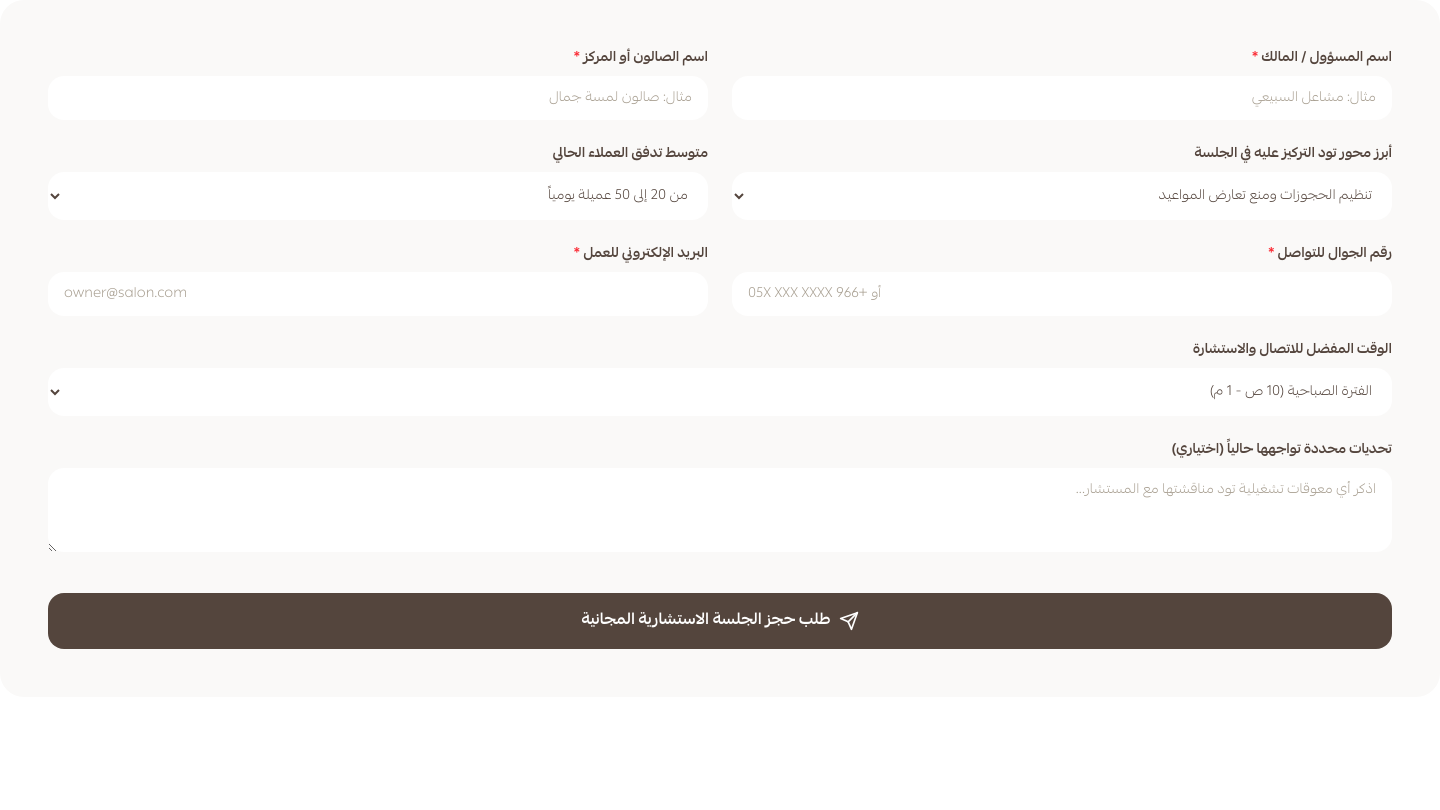
RASHX Public Pages & Conversion Forms Suite › Consultation Form (/consultation) › handles unsupported consultation gracefully showing official phone
Type "مشاعل السبيعي" into the field labelled "اسم المسؤول / المالك *" at (1062, 98), box [732,76,1392,120]
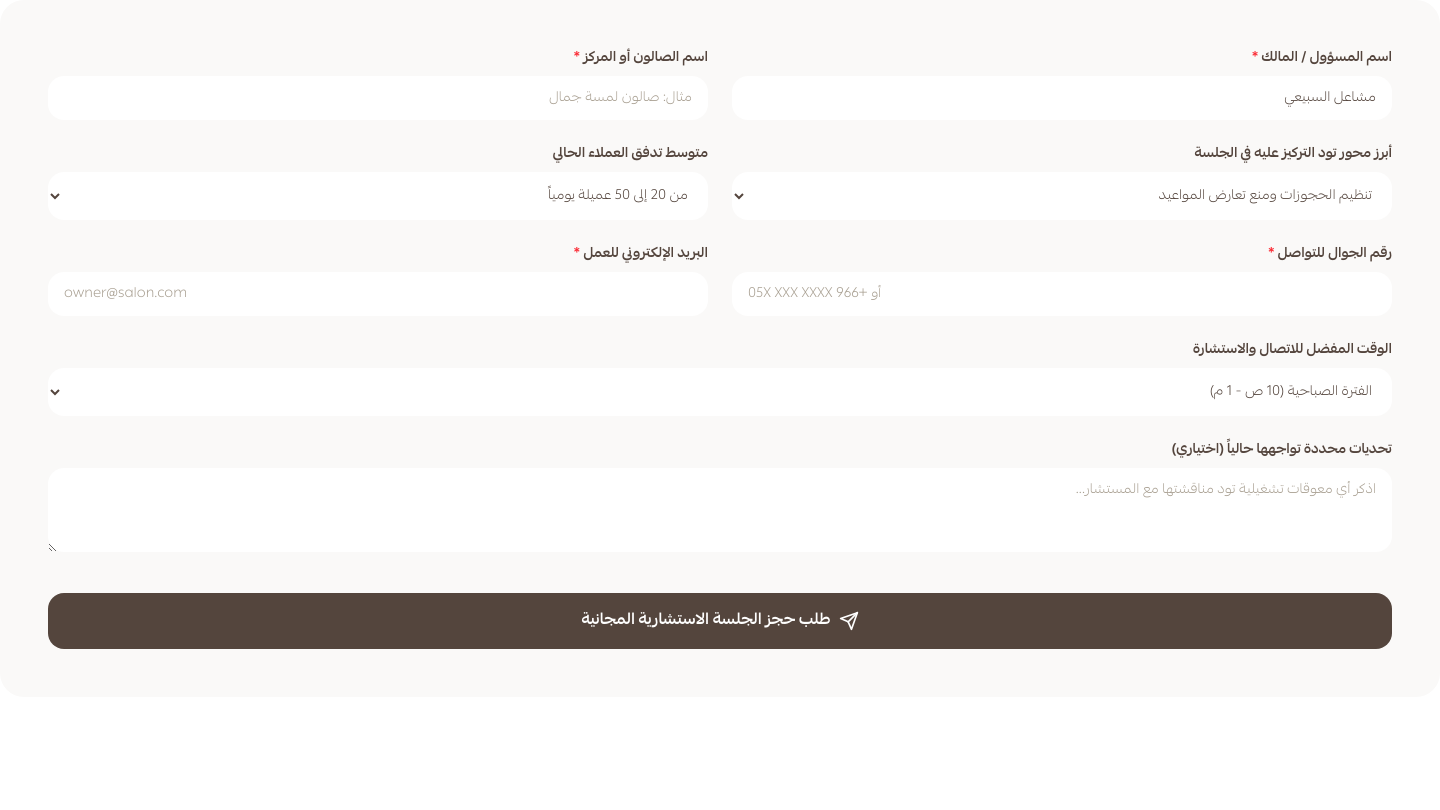
Type "صالون الأناقة" into the field labelled "اسم الصالون أو المركز *" at (378, 98), box [48,76,708,120]
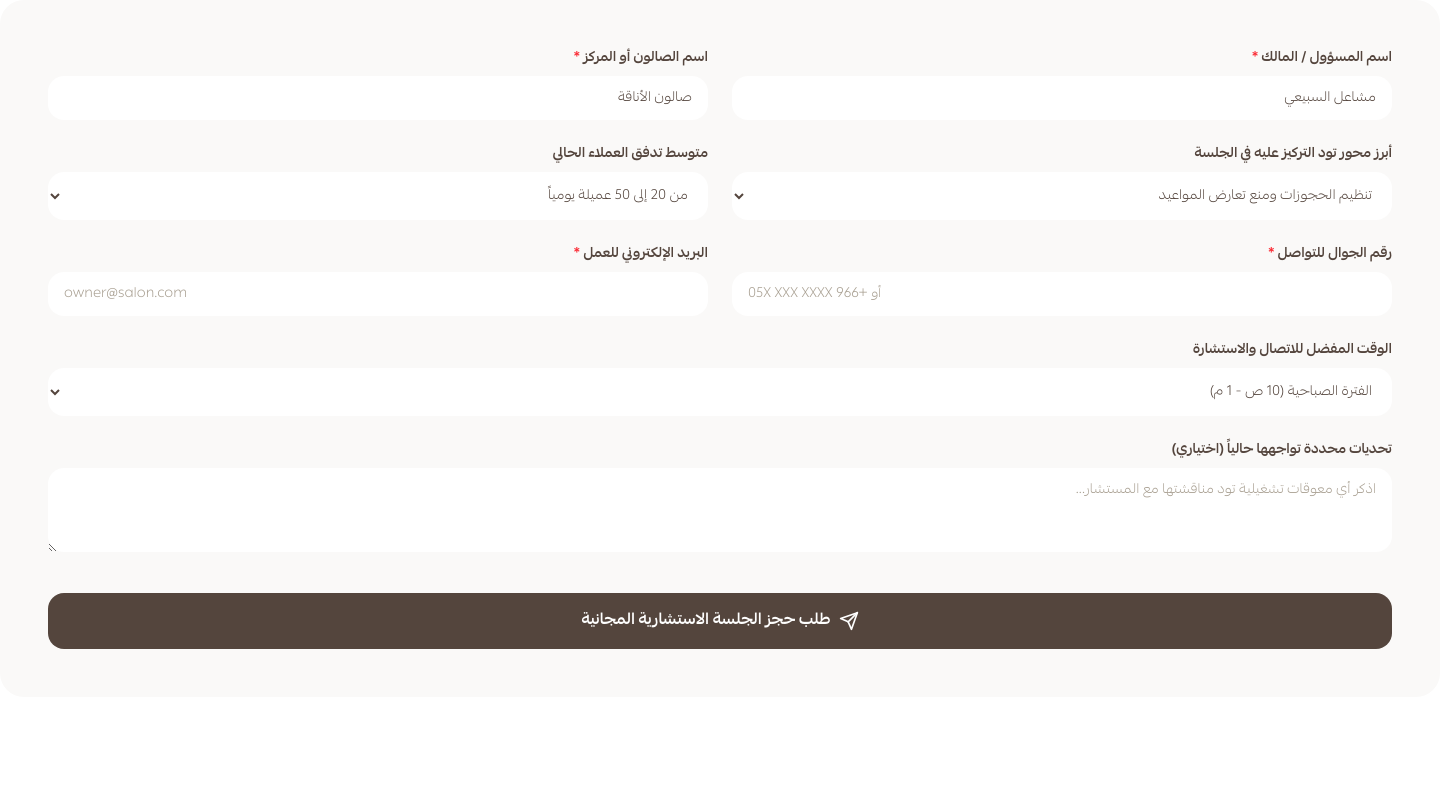
Type "0548082945" into the field labelled "رقم الجوال للتواصل *" at (1062, 294), box [732,272,1392,316]
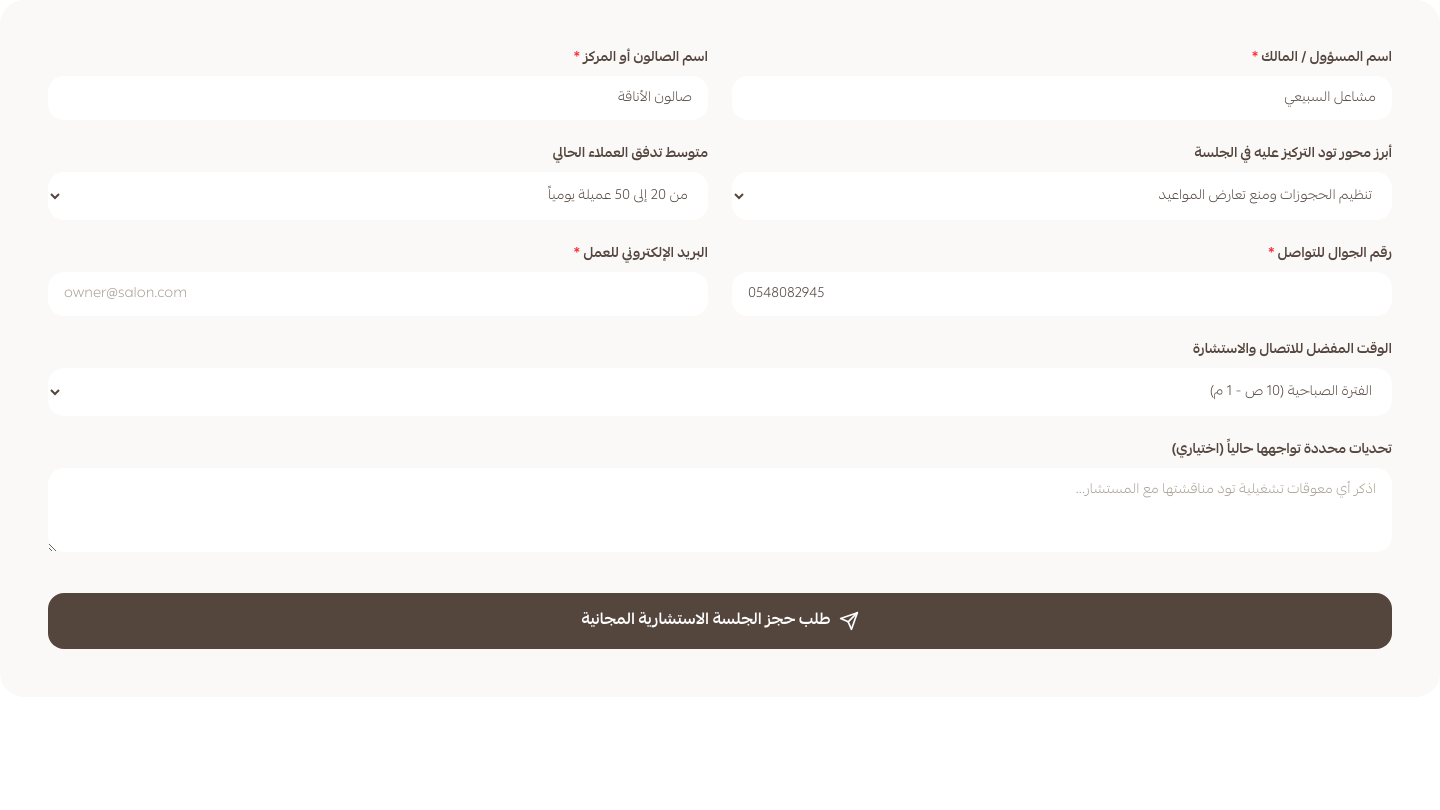
Type "mashael@salon.com" into the field labelled "البريد الإلكتروني للعمل *" at (378, 294), box [48,272,708,316]
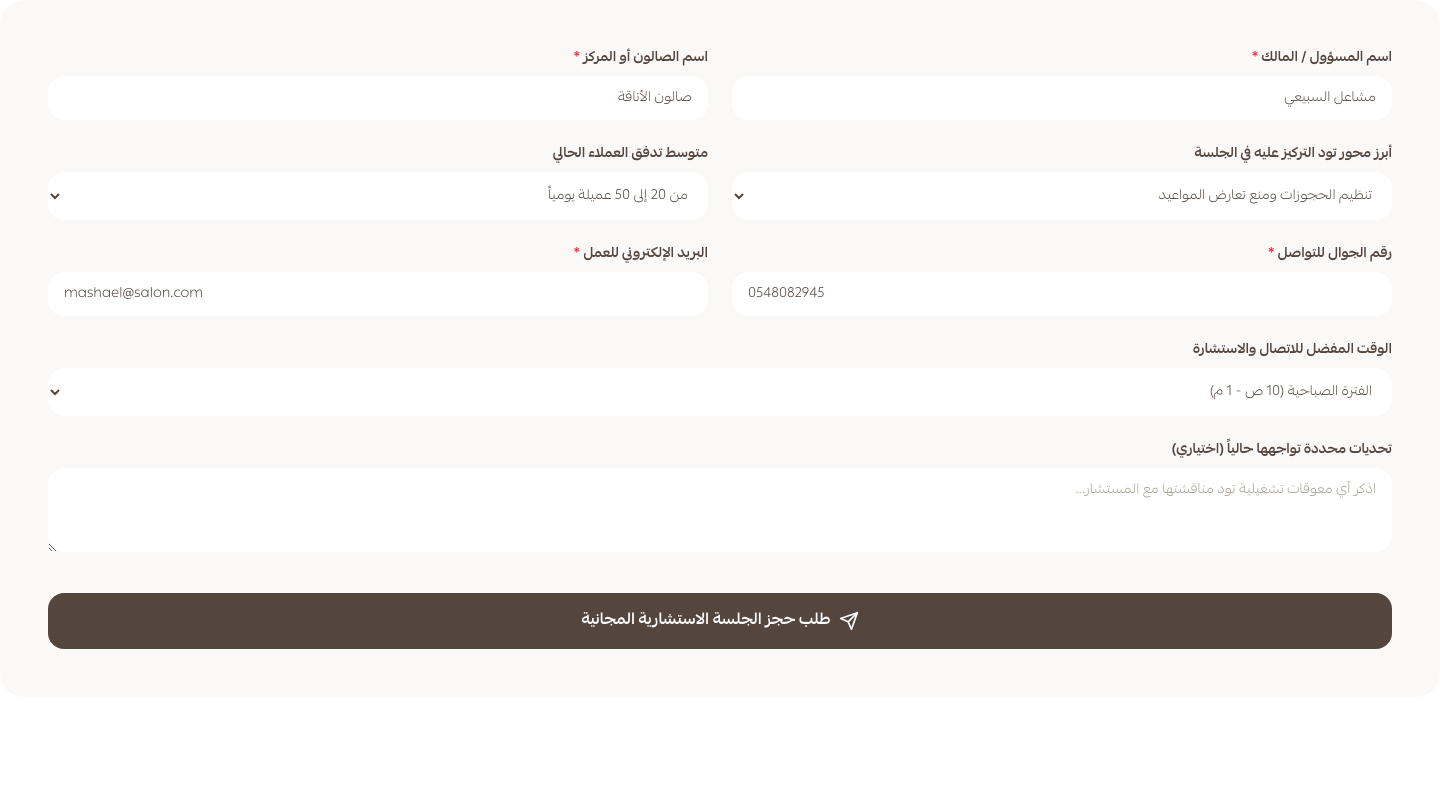
Click the button "طلب حجز الجلسة الاستشارية المجانية" at (720, 621), box [48,593,1392,649]
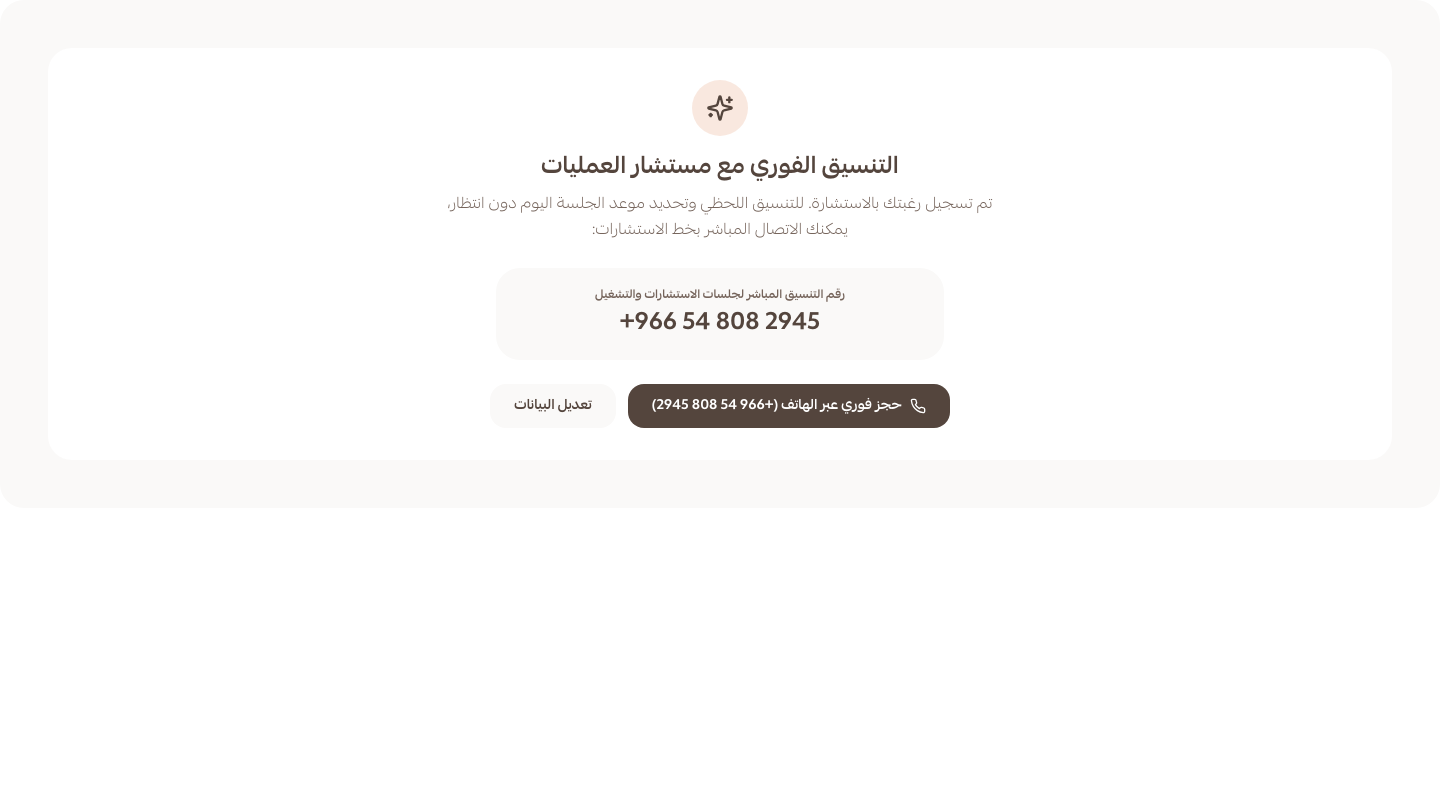
Result: the element named "Direct Consultation Coordination" is shown at [48,48,1392,460]
Result: the link "+966 54 808 2945" is shown at [620,308,820,340]
